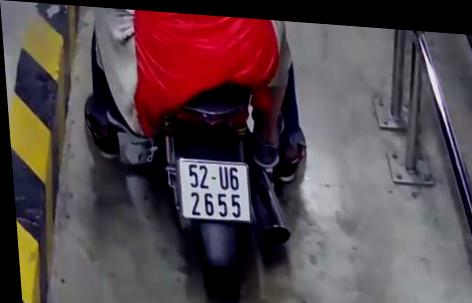License_Plate: (170, 152, 259, 227)
